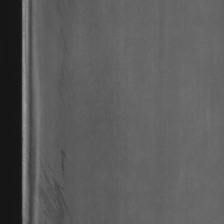water_spot: (38, 143, 77, 224), (55, 19, 81, 114)
